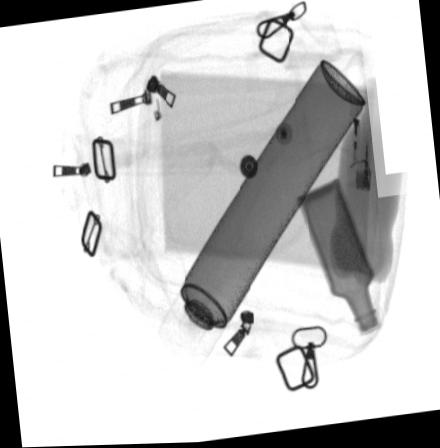Lighter: (347, 118, 376, 191)
Sprayer: (156, 62, 366, 363)
